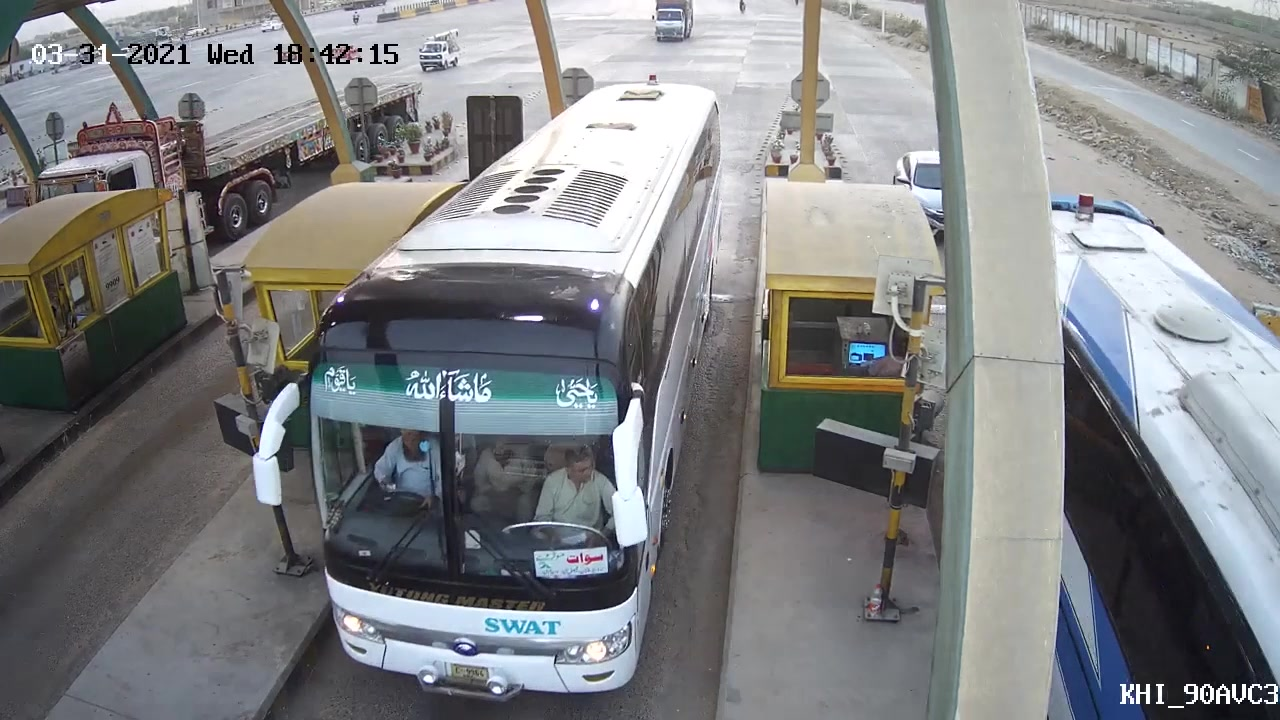F4: (249, 65, 737, 707)
